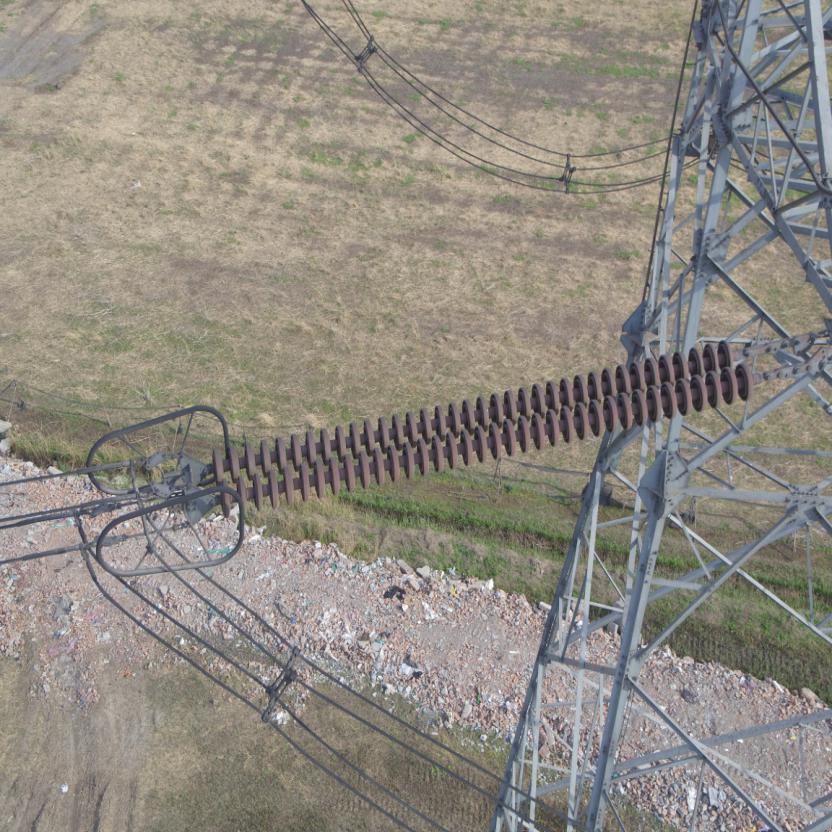insulator: (202, 333, 770, 518)
